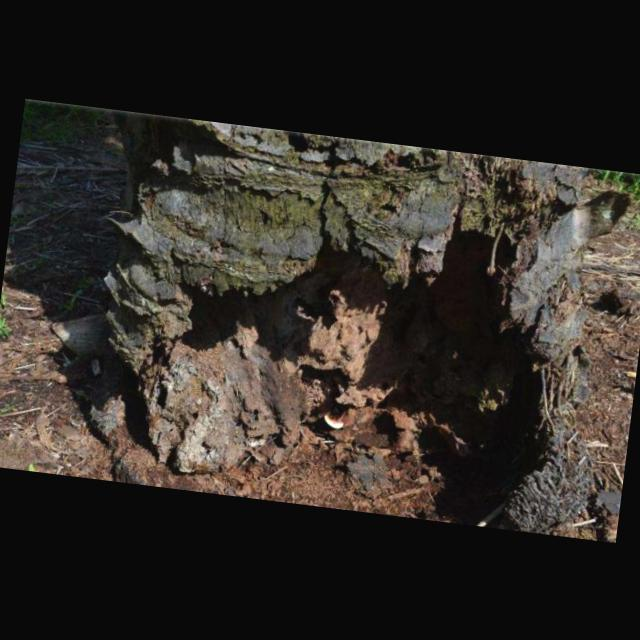ganoderma: (323, 407, 348, 430)
